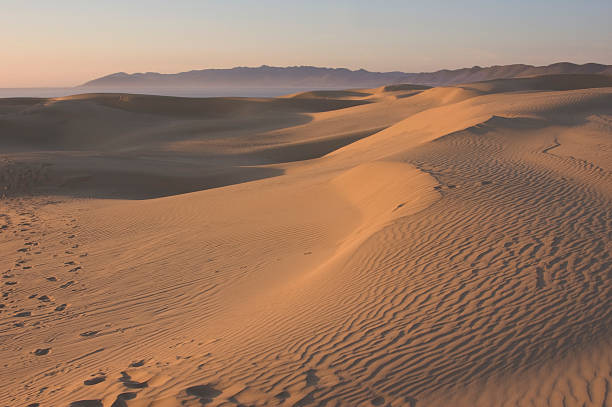human_footprint: (56, 236, 88, 296), (182, 378, 241, 402), (100, 372, 152, 394), (14, 251, 37, 279), (30, 347, 63, 364), (31, 294, 63, 310), (80, 373, 108, 390), (17, 308, 38, 327), (78, 332, 100, 343), (88, 376, 107, 388), (60, 306, 76, 316)
